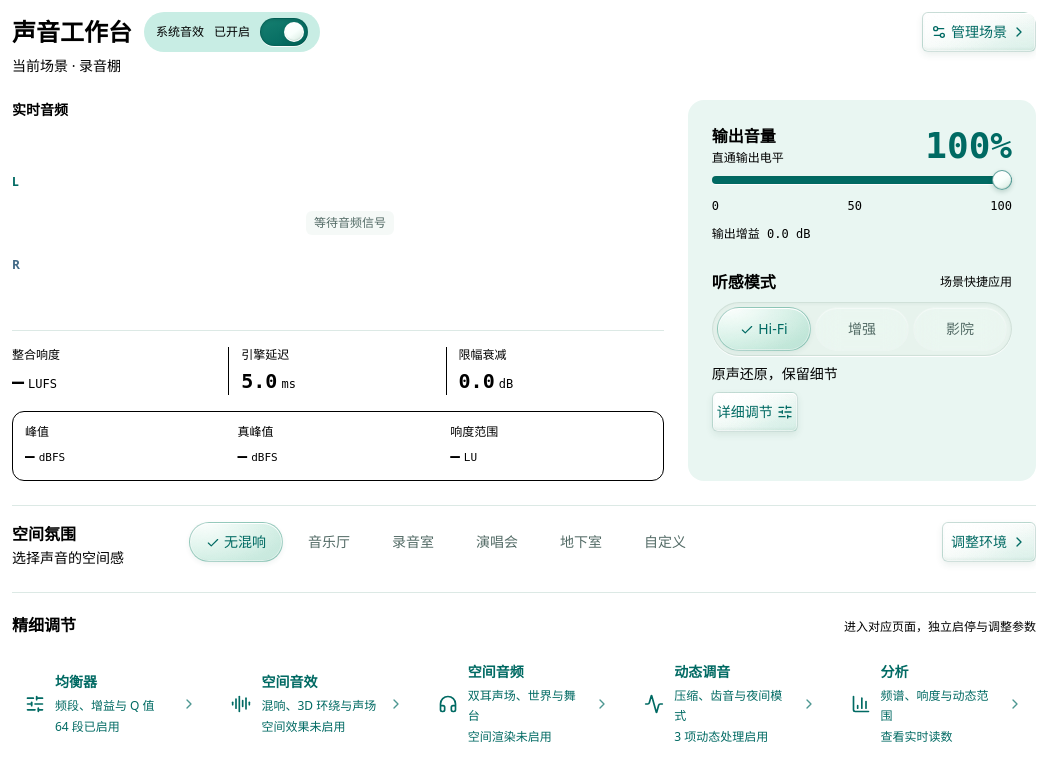
HSE 首页 › 音量调整保留场景身份，百分比不损失小数增益
Set the slider named "输出音量" to "81" at (950, 180), box [712,176,1012,184]
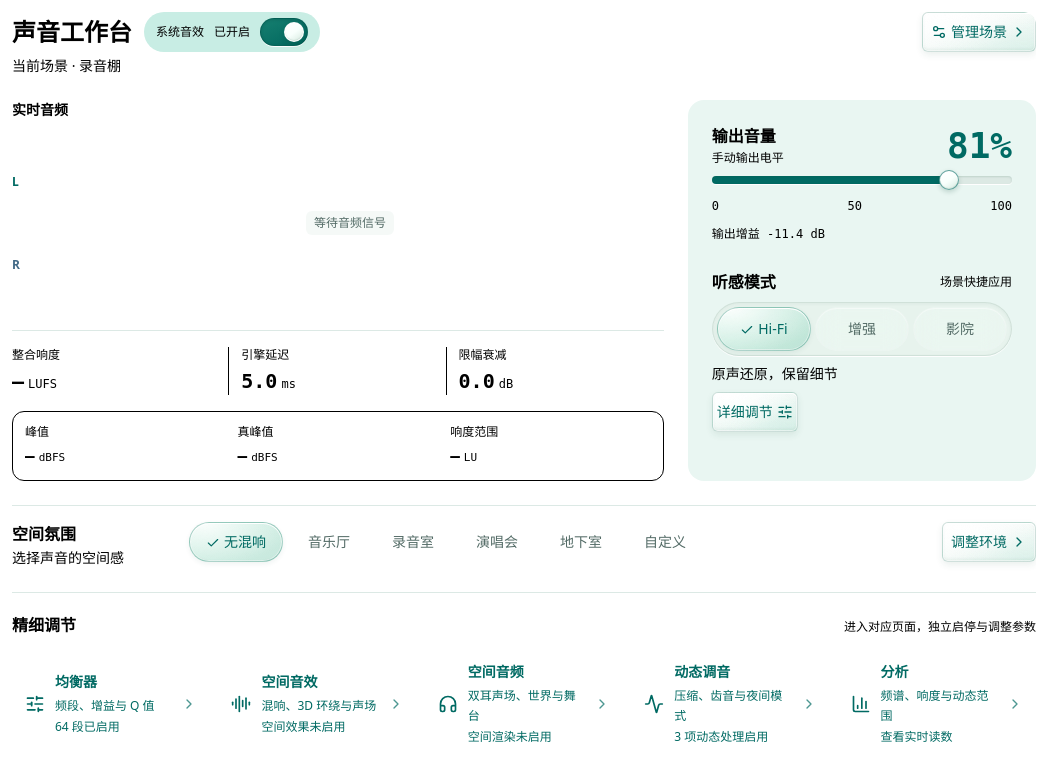
Expected: the text "输出增益 -11.4 dB" is shown, [712,226,825,242]
